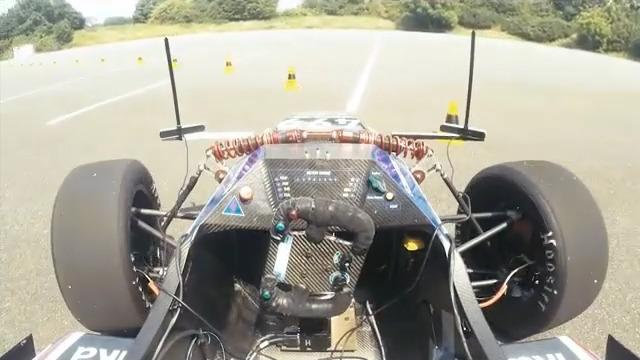yellow_cone: (435, 99, 467, 147), (283, 65, 301, 91)
